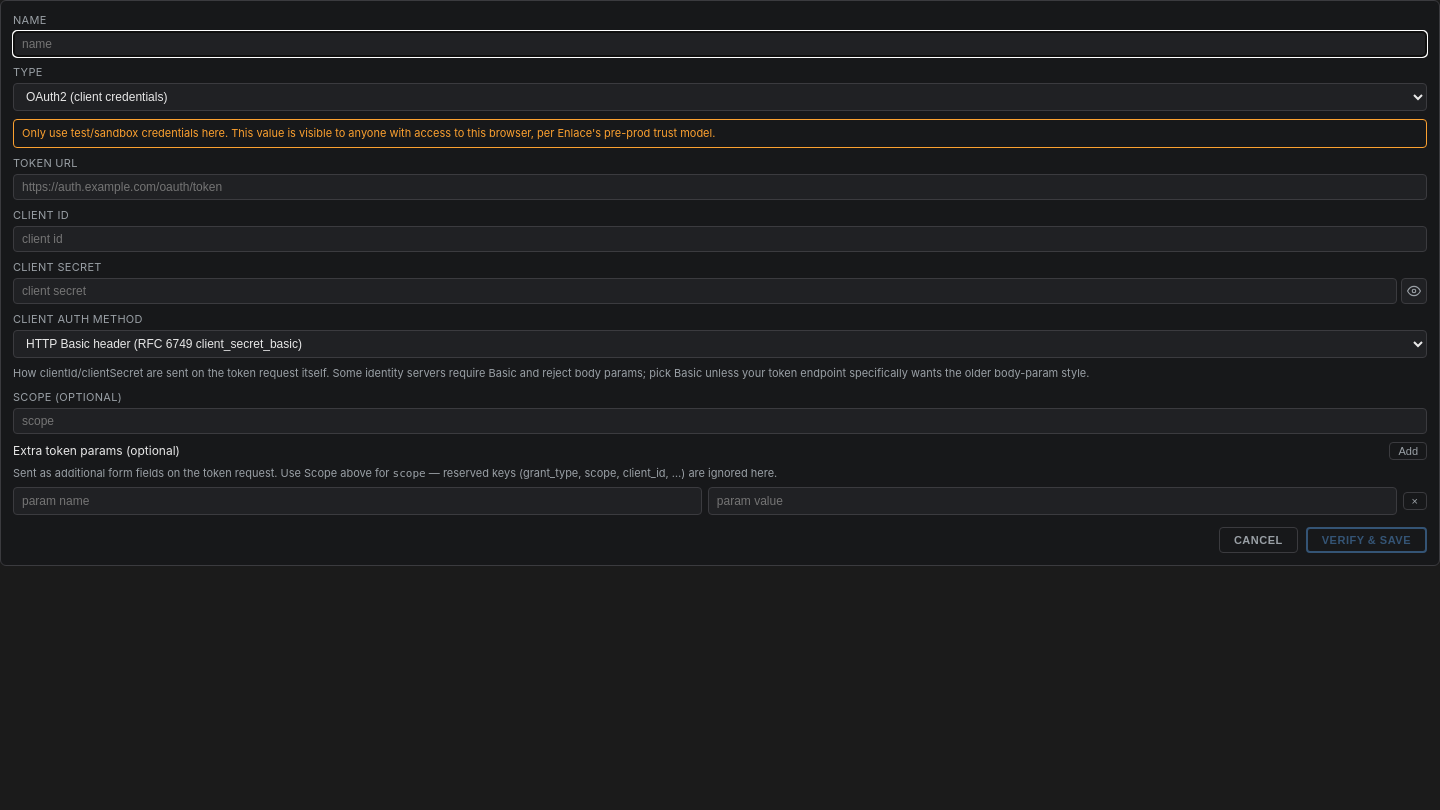
Test: CredentialForm › oauth2_* Verify & Save › clears a previous verification error as soon as any field changes
Type "guest-token" into the field with placeholder "Name". click: (720, 44)
box: left=13, top=31, right=1427, bottom=57
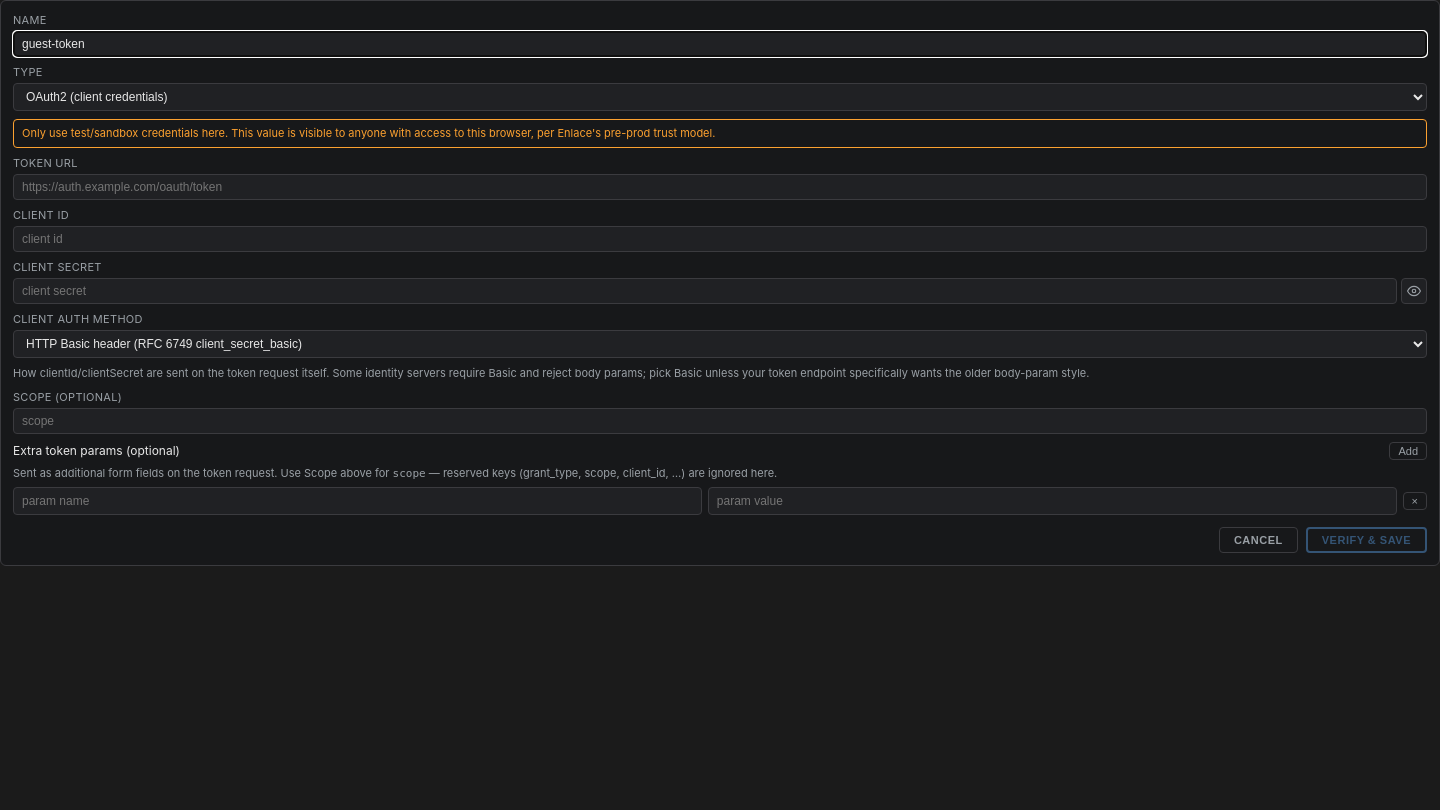
Type "http://auth.test/token" into the field with placeholder "https://auth.example.com/oauth/token". click: (720, 187)
box: left=13, top=174, right=1427, bottom=200
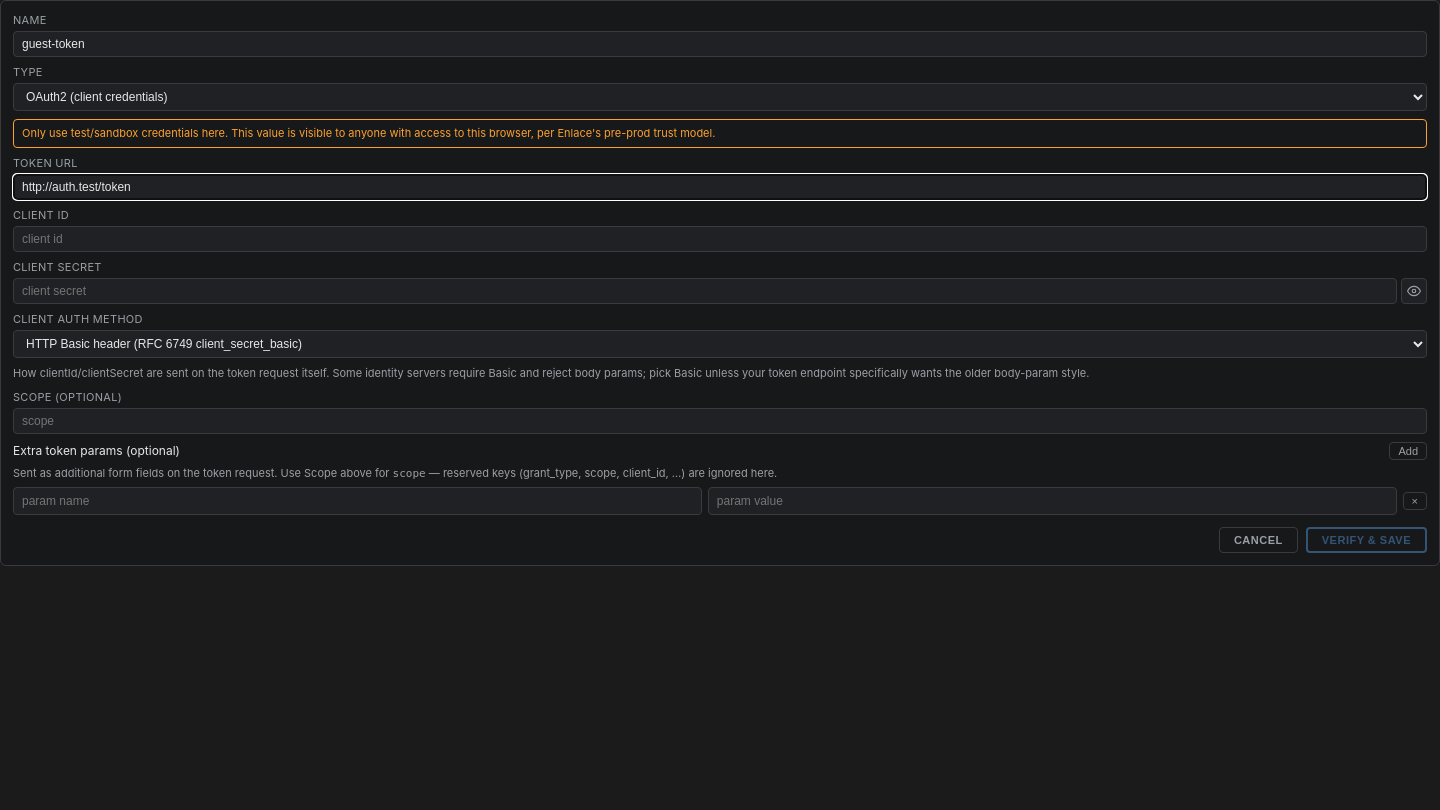
Type "client-id" into the field with placeholder "Client ID". click: (720, 239)
box: left=13, top=226, right=1427, bottom=252
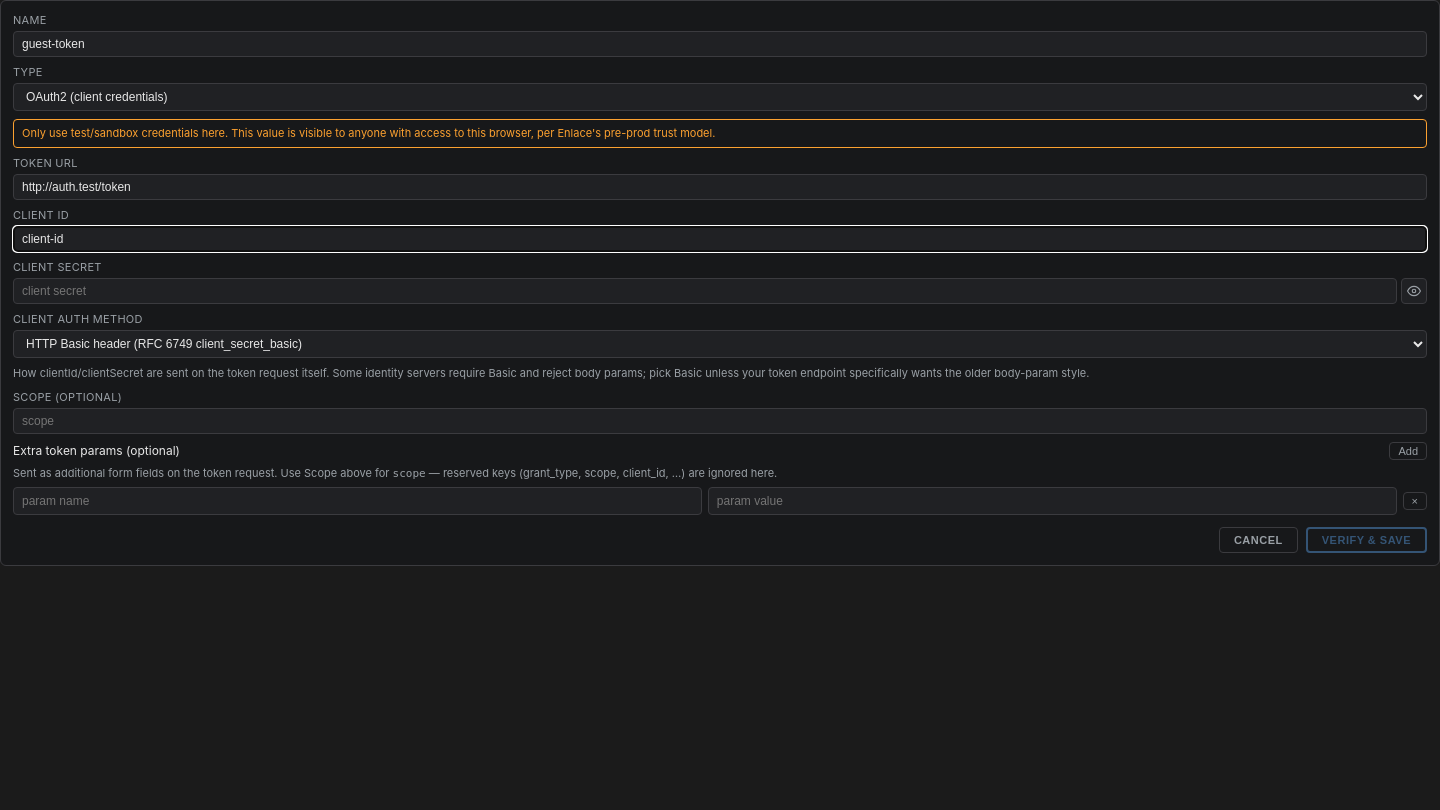
Type "client-secret" into the password field with placeholder "Client secret". click: (705, 291)
box: left=13, top=278, right=1397, bottom=304
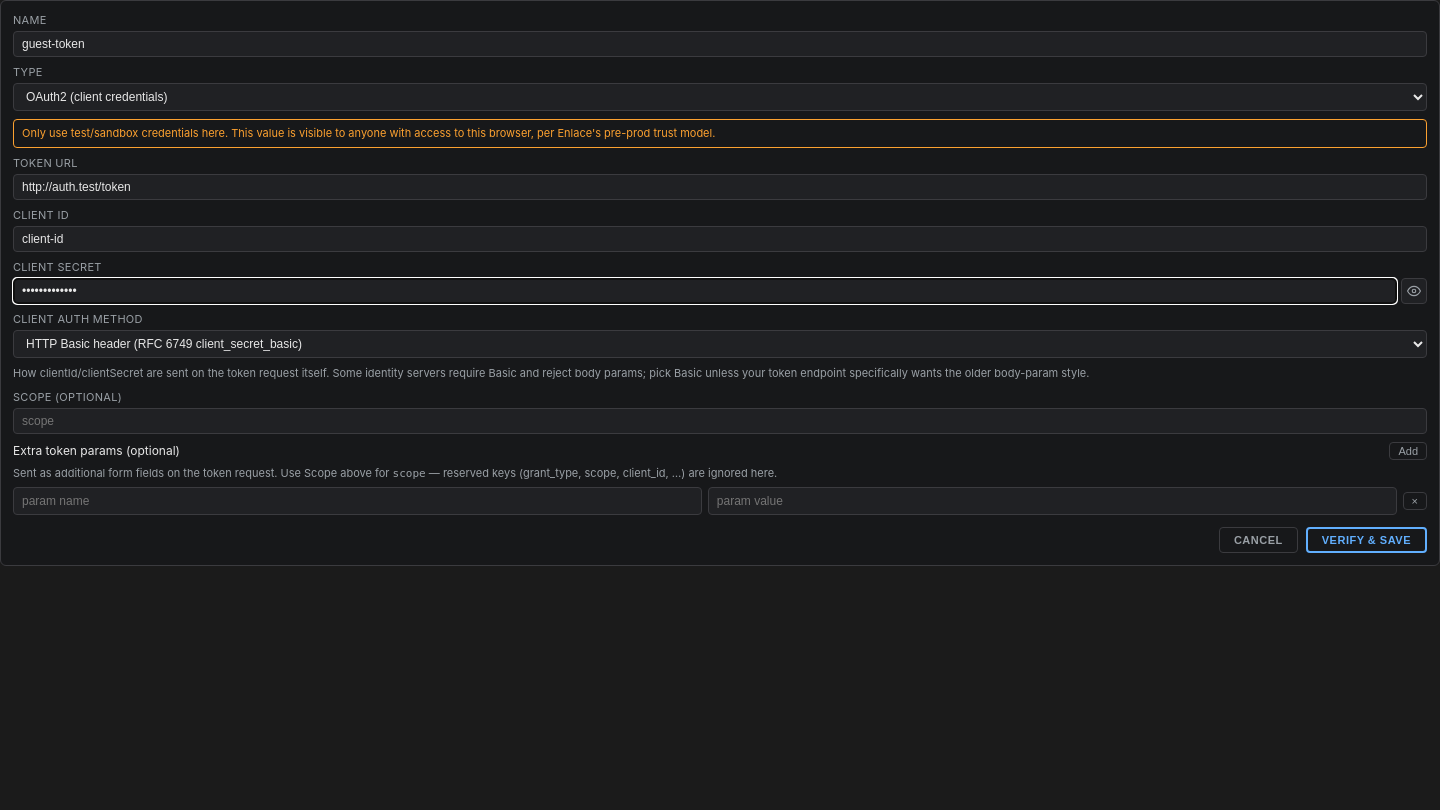
Click the button "Verify & Save". click: (1366, 540)
box: left=1306, top=527, right=1427, bottom=553
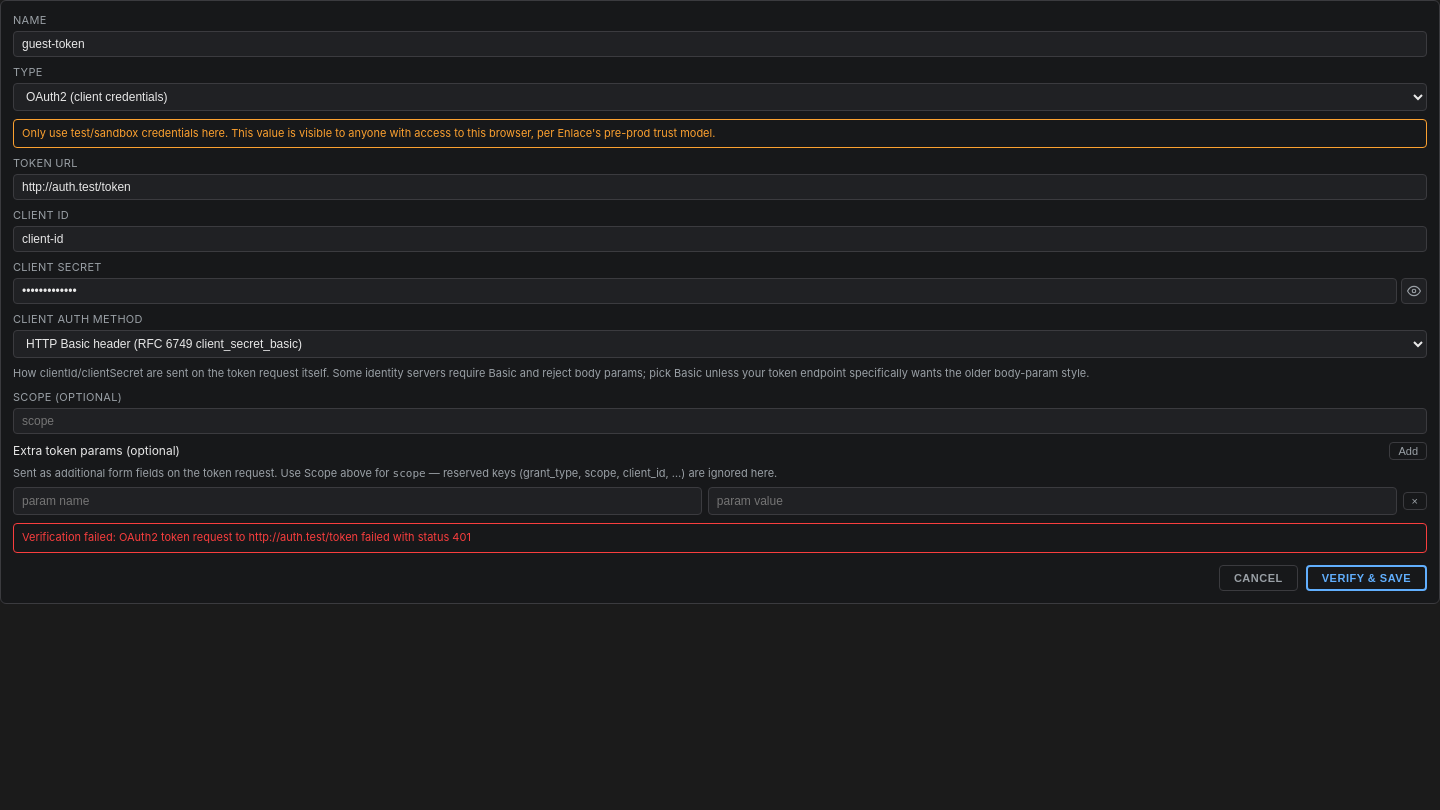
Check: the text "Verification failed" is shown, box left=22, top=530, right=119, bottom=544
Type "-retry" into the password field with placeholder "Client secret". click: (705, 291)
box: left=13, top=278, right=1397, bottom=304
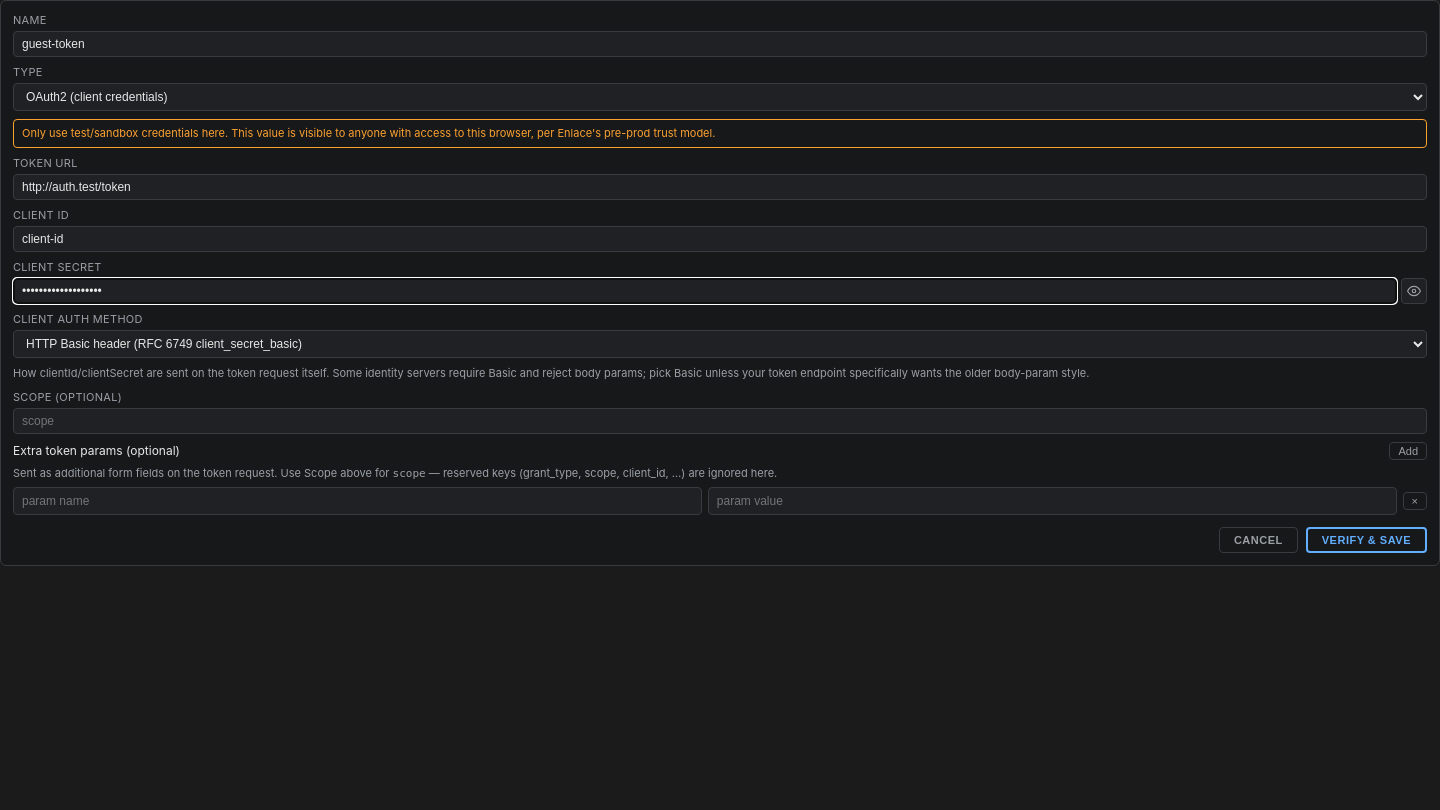
Check: the text "Verification failed" is gone
